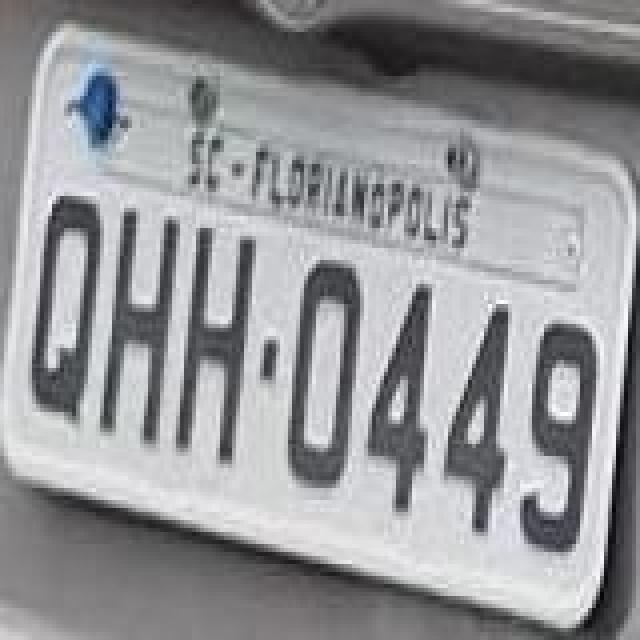4: (440, 308, 512, 540), (366, 282, 434, 518)
9: (518, 322, 602, 558)
H: (98, 208, 182, 448), (174, 224, 258, 464)
O: (284, 260, 364, 492)
Q: (28, 192, 100, 432)
